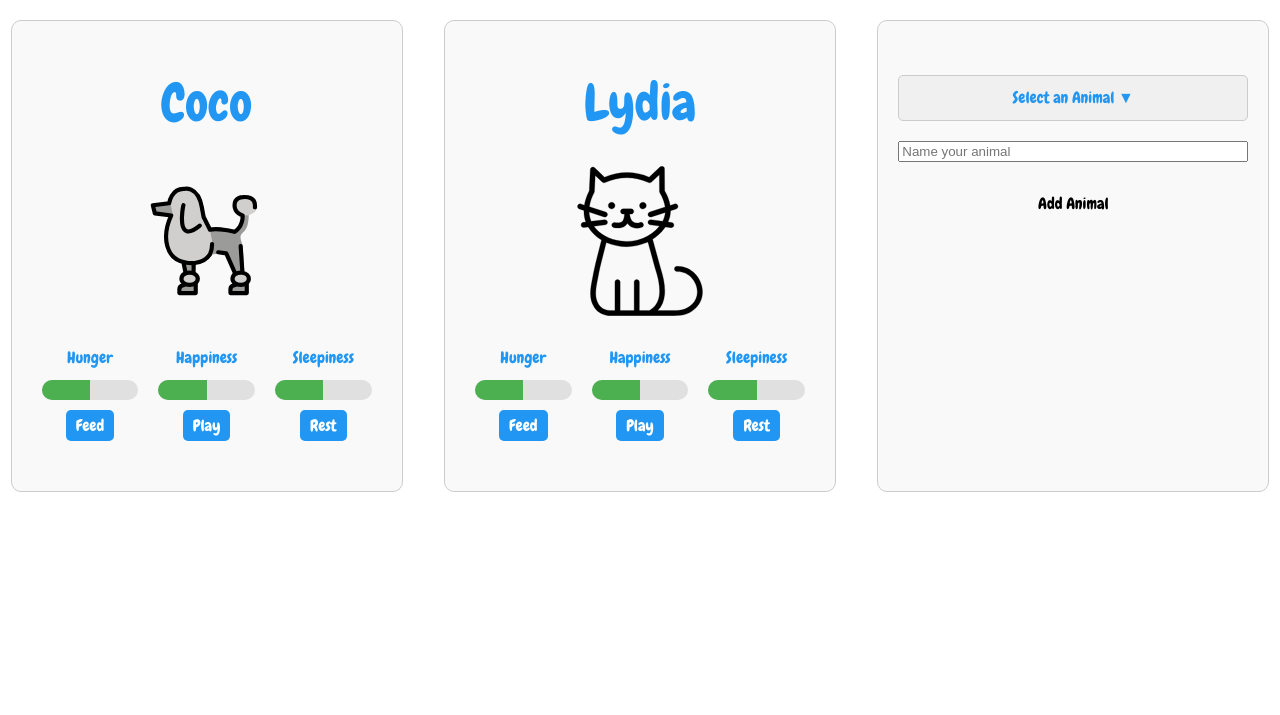
Scenario: Users should be able to have multiple animals of different types, each animal type should have metrics which increase/decrease at different rates
Click the text "Select an Animal ▼". click: click(1073, 98)
box: [898, 75, 1248, 121]
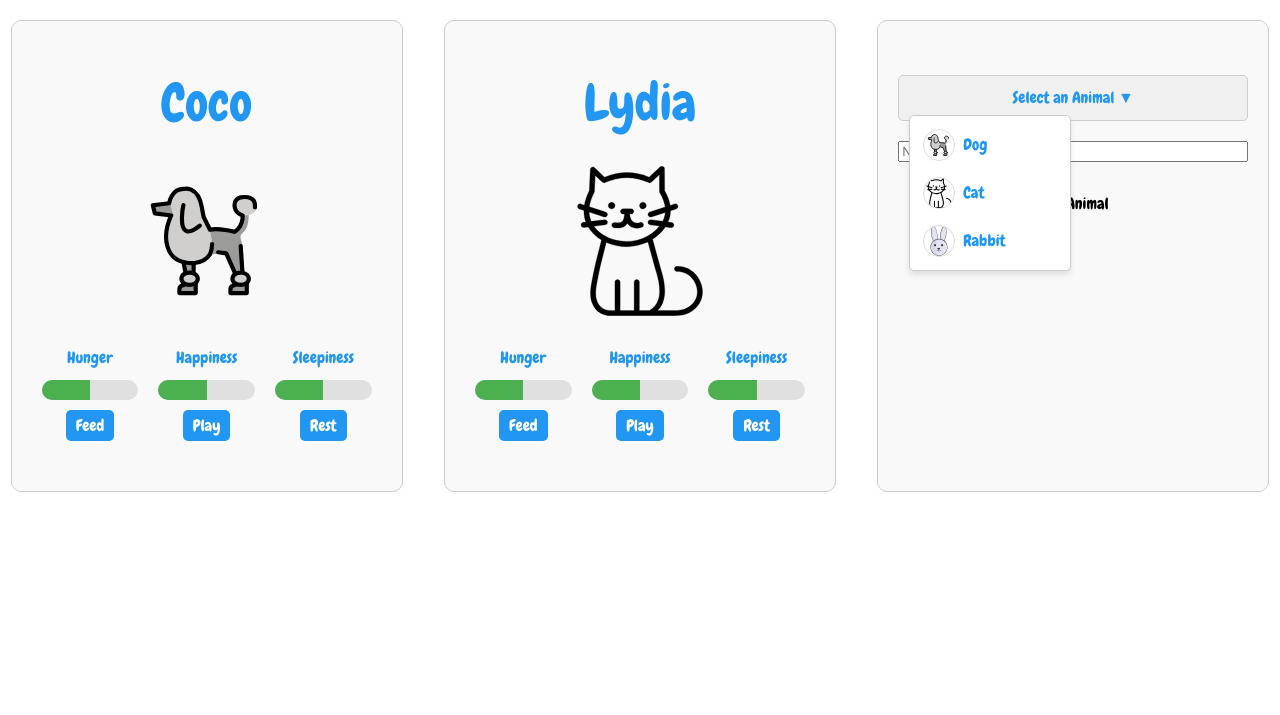
Click the text "Rabbit". click: click(984, 241)
box: [963, 229, 1006, 253]
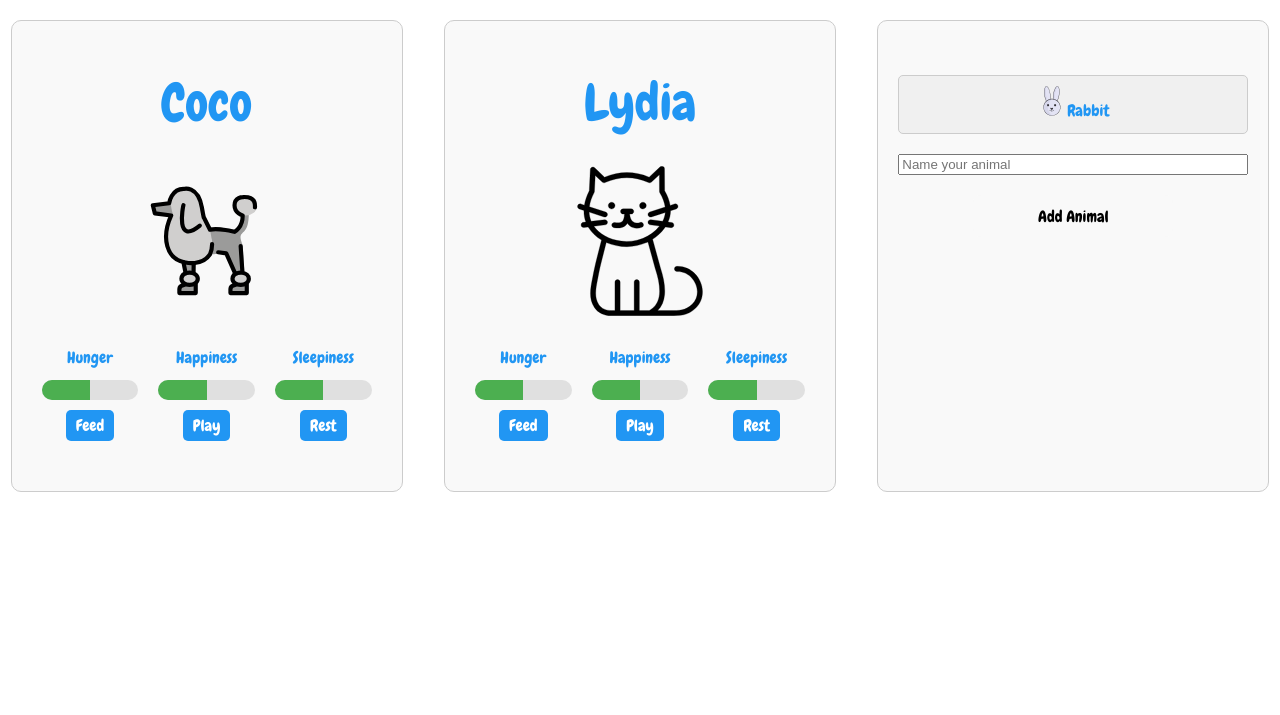
Type "Daisy" into the field. click: (1073, 165)
box: [898, 154, 1248, 175]
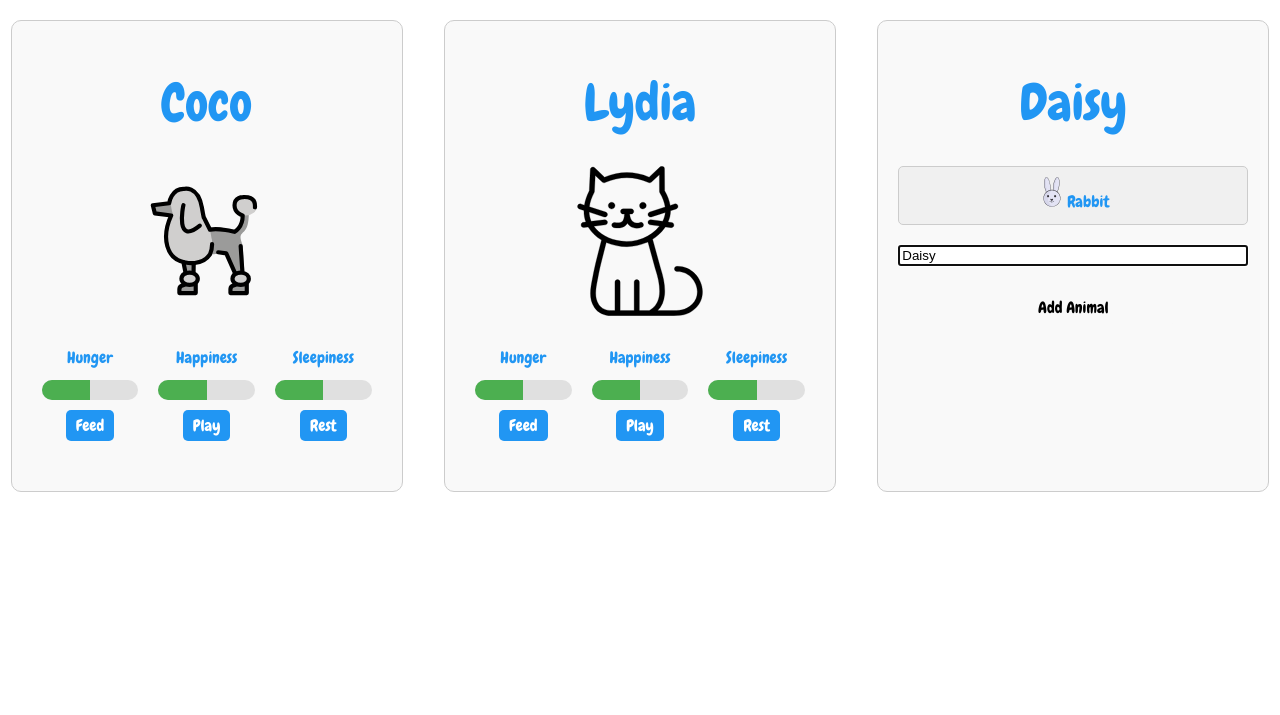
Click the button "Add Animal". click: click(1073, 307)
box: [973, 286, 1173, 328]
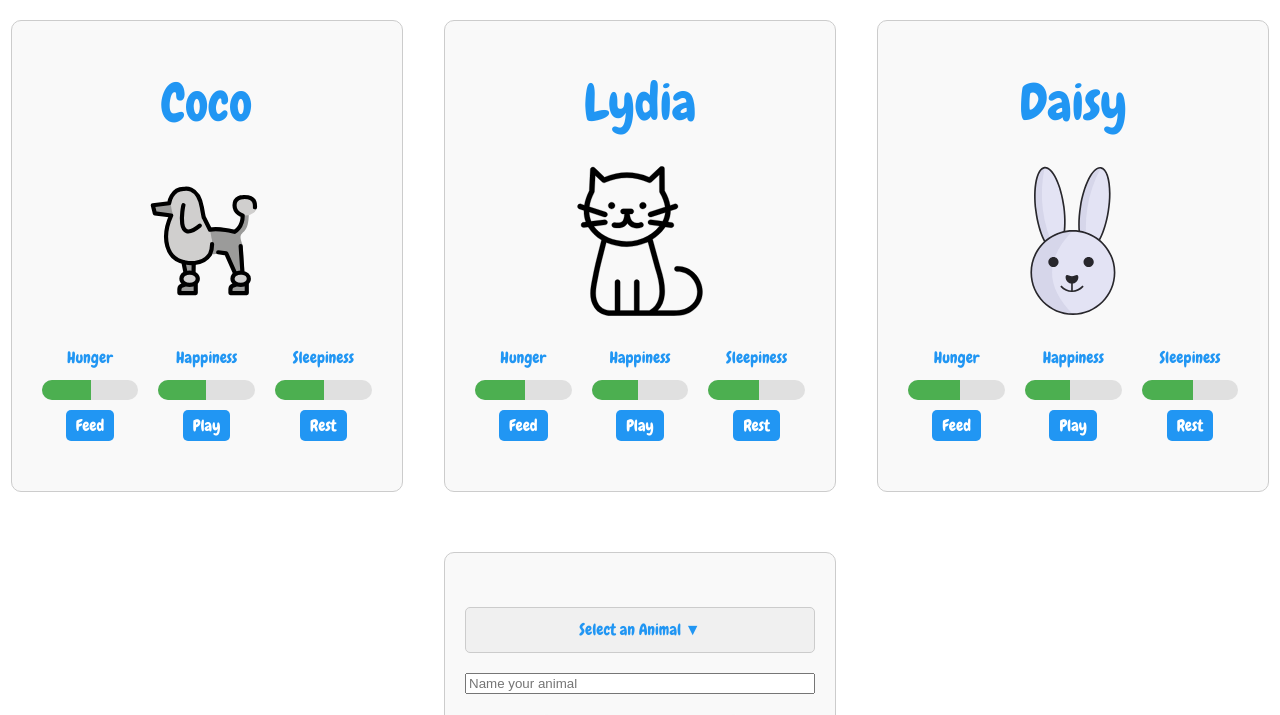
Expected: the picture with alt text "Dog.svg" is shown, [132, 166, 282, 316]
Expected: the heading "Daisy" is shown, [1020, 70, 1127, 136]
Expected: the picture with alt text "Rabbit.svg" is shown, [998, 166, 1148, 316]
